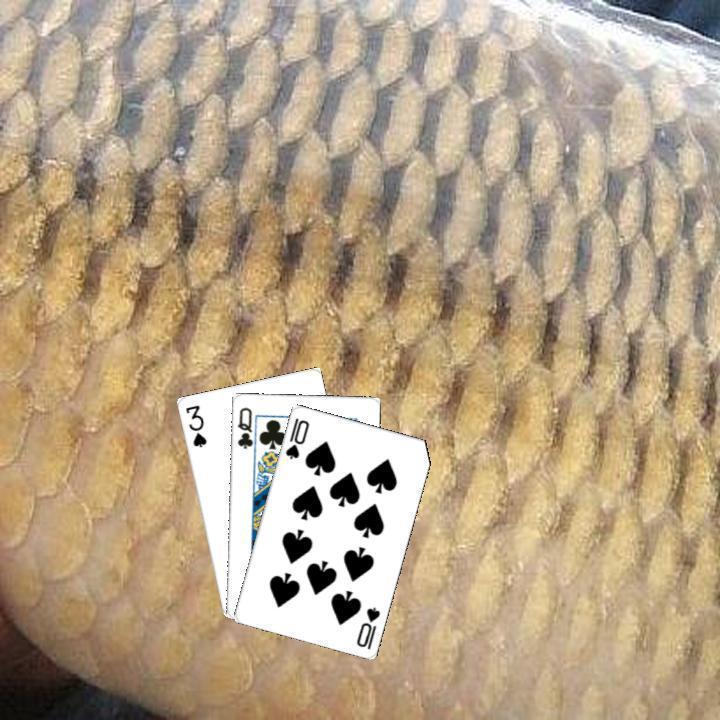10: (352, 602, 382, 651), (281, 413, 311, 461)
3: (181, 400, 208, 449)
Q: (233, 403, 254, 450)
